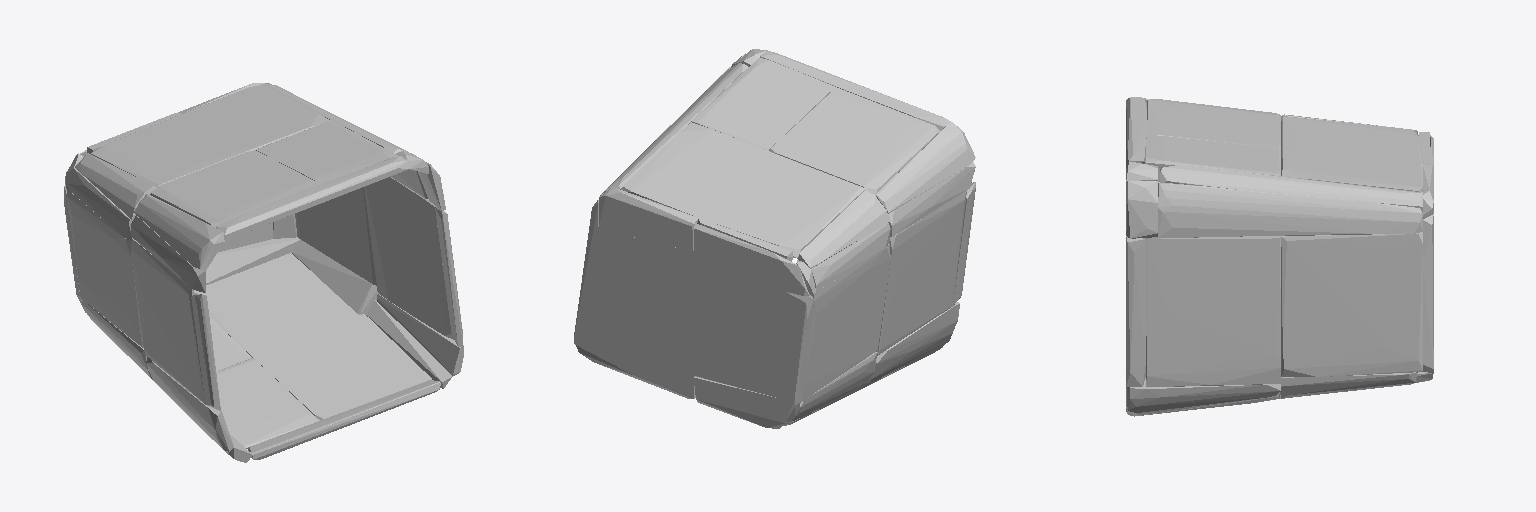
3 renders of one model, left to right at view 1: azimuth 30°, elevation 25°; view 2: azimuth 150°, elevation 25°; view 3: azimuth 270°, elevation 25°, orthographic.
Visible parts, largest first — view 1: convex_5, convex_2, convex_11, convex_9, convex_33, convex_18, convex_37, convex_36, convex_29, convex_10, convex_32, convex_12 (+15 smaller); view 2: convex_16, convex_2, convex_9, convex_33, convex_18, convex_36, convex_1, convex_26, convex_32, convex_24, convex_0, convex_15 (+10 smaller); view 3: convex_11, convex_29, convex_30, convex_2, convex_9, convex_28, convex_36, convex_14, convex_4, convex_6, convex_25, convex_7 (+3 smaller).
Part boxes in pixels (x1,y1,x2,y2): convex_5: (194, 253, 431, 420); convex_2: (91, 85, 329, 186); convex_11: (364, 177, 453, 339); convex_9: (150, 150, 319, 227); convex_33: (131, 238, 205, 404); convex_18: (67, 189, 143, 347); convex_37: (216, 358, 319, 448); convex_36: (256, 120, 397, 183); convex_29: (295, 187, 376, 285); convex_10: (216, 156, 408, 238); convex_32: (134, 194, 224, 270); convex_12: (248, 380, 440, 459); convex_16: (598, 229, 784, 399); convex_2: (622, 122, 865, 258); convex_9: (770, 87, 940, 195); convex_33: (876, 191, 966, 355); convex_18: (801, 243, 890, 401); convex_36: (691, 58, 834, 150); convex_1: (694, 223, 809, 295); convex_26: (598, 188, 697, 251); convex_32: (876, 122, 975, 213); convex_24: (798, 189, 890, 268); convex_0: (785, 292, 813, 421); convex_15: (694, 377, 785, 428); convex_11: (1146, 236, 1280, 386); convex_29: (1281, 232, 1422, 376); convex_30: (1158, 182, 1422, 237); convex_2: (1281, 116, 1422, 191); convex_9: (1147, 99, 1280, 148); convex_28: (1160, 165, 1422, 212); convex_36: (1146, 135, 1280, 175); convex_14: (1126, 384, 1280, 414); convex_4: (1126, 236, 1145, 386); convex_6: (1281, 372, 1416, 398); convex_25: (1126, 181, 1157, 238); convex_7: (1423, 214, 1433, 373).
Bounding box in the file's own units: 0.3417 × 0.3234 × 0.3417.